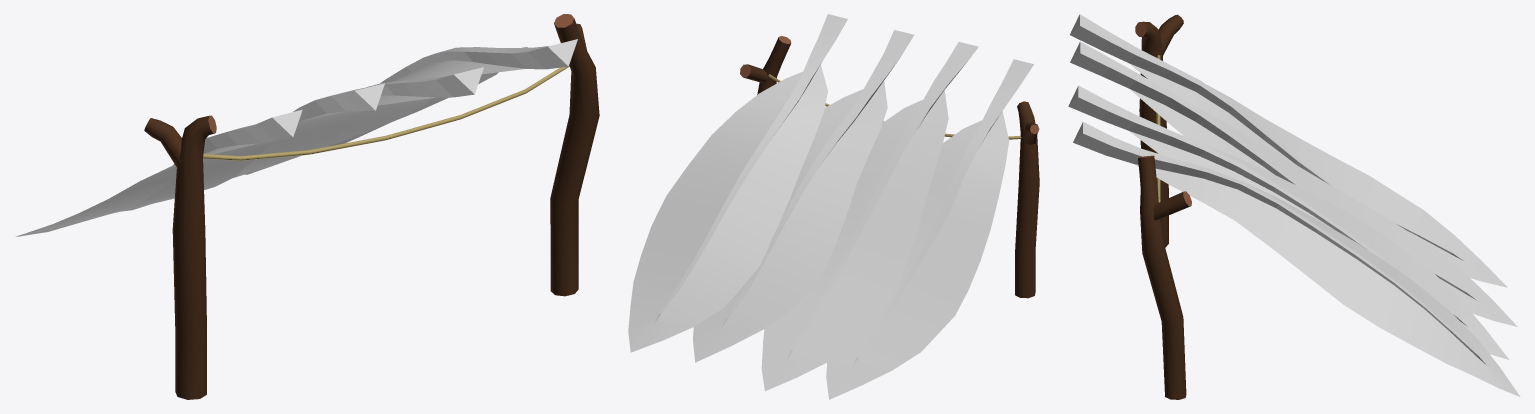
File: TimberTent.fbx
3 views of the same model, side by side, from view 1: azimuth 30°, elevation 25°; view 2: azimuth 150°, elevation 25°; view 3: azimuth 270°, elevation 25° (orthographic). The views are drawn at different scales.
Parts seen in each view (by area): view 1: Plane.004; view 2: Plane.004; view 3: Plane.004.
Part boxes in pixels (x1,y1,x2,y2): Plane.004: (16, 14, 599, 399); Plane.004: (628, 14, 1039, 399); Plane.004: (1068, 14, 1520, 399).
Bounding box in the file's own units: 107 × 114 × 74.11.
